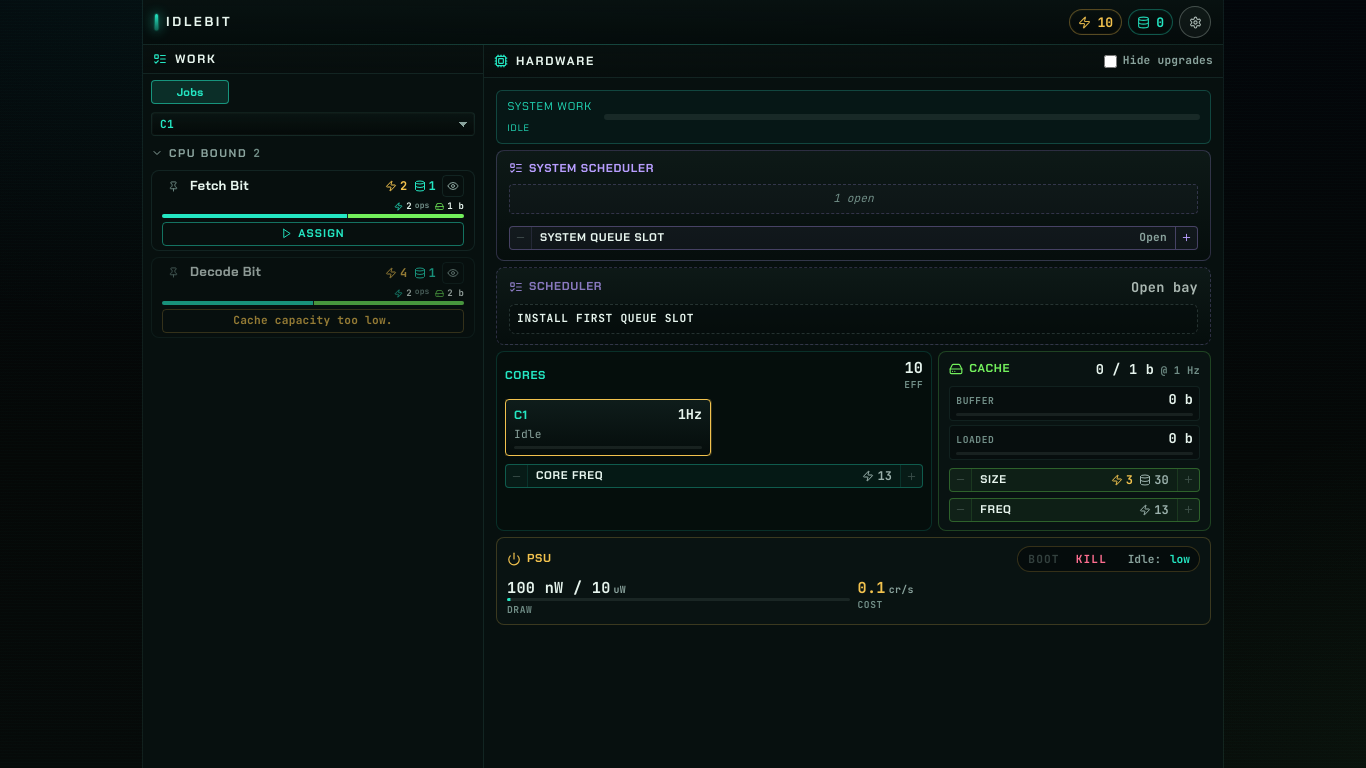
Test: SystemWorkbench hardware upgrade toggle › returns mobile to Work when the graph closes with no research panel
The image size is (1366, 768).
Click the button with class "credits" showing "10".
click(1096, 22)  # box [1069,9,1122,35]
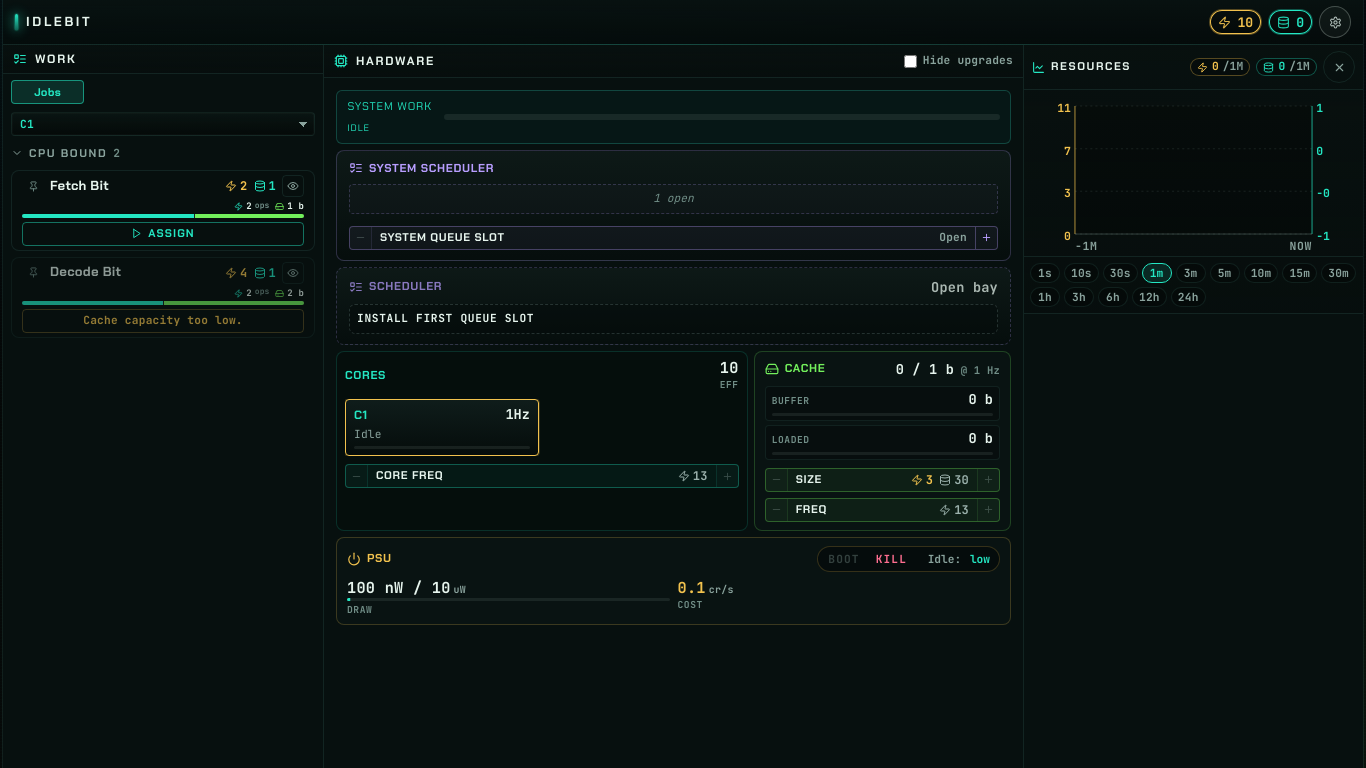
Check: the element with class "resource-graph-panel" is shown, box [1024,45,1363,314]
Click the button with class "resource-graph-close".
click(1339, 67)  # box [1323,51,1355,83]
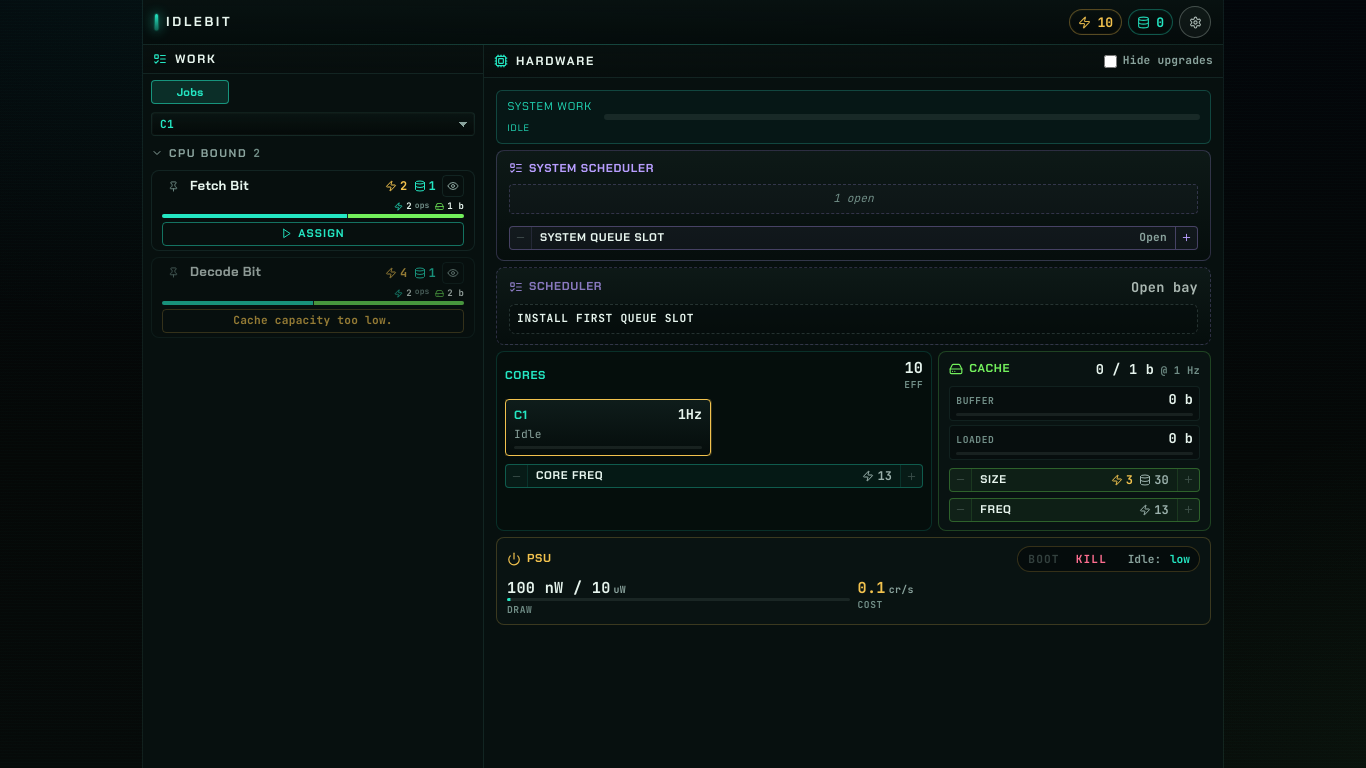
Check: the element with class "resource-graph-panel" is gone
